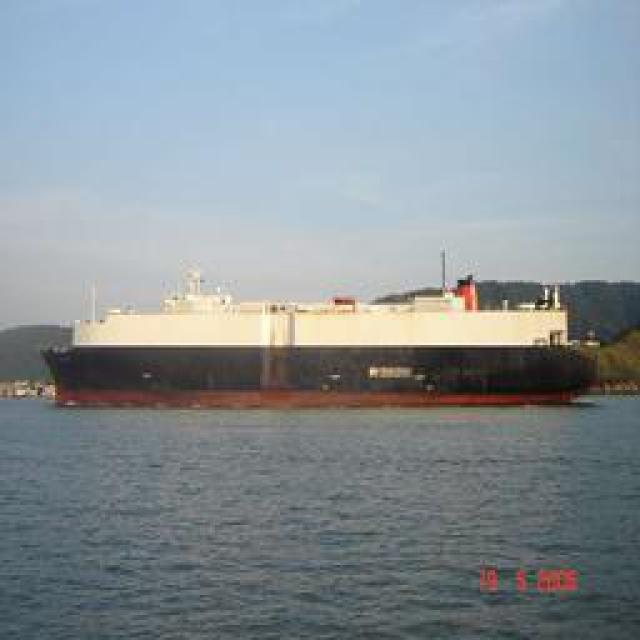Ship: (61, 276, 596, 404)
